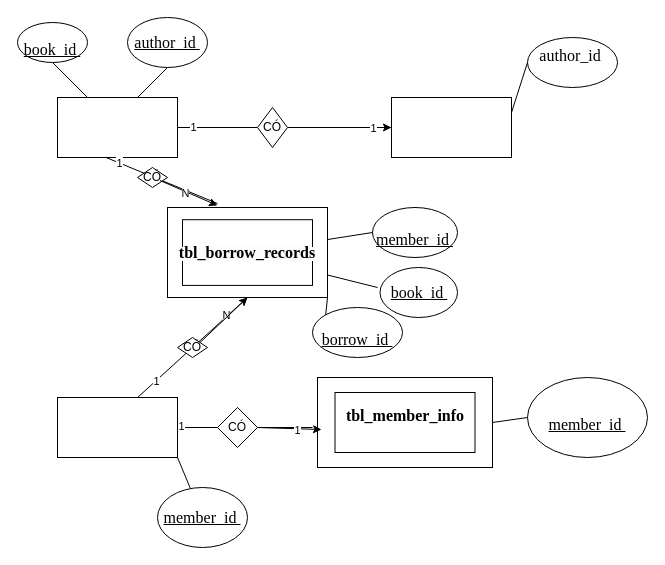
This 665x565 diagram has some shape labels left out. Here are the shapes that lost their labels. From the top down, the box of each, then its label:
(56, 96, 178, 158): tbl_books
(390, 96, 512, 158): tbl_authors
(56, 396, 178, 458): tbl_members
